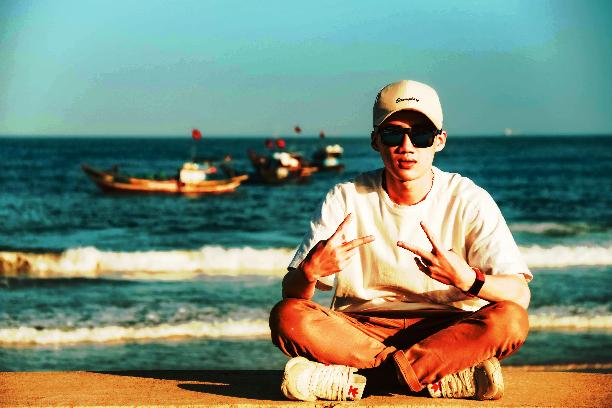Scissors: (304, 209, 376, 283), (396, 221, 472, 286)
